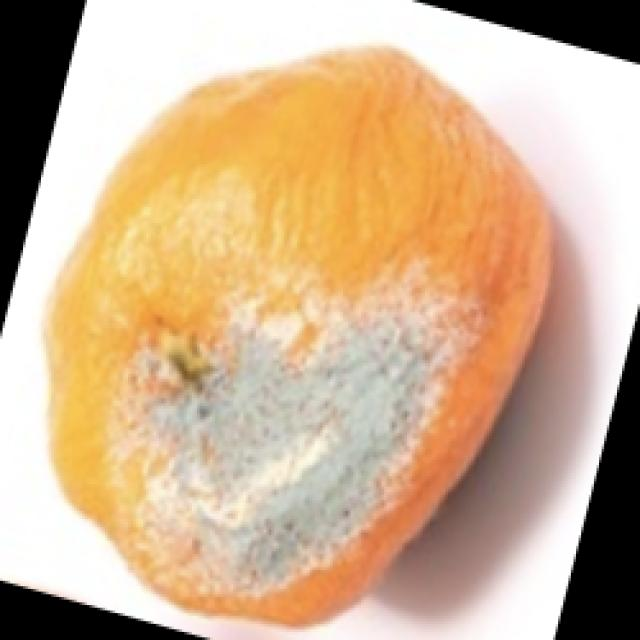sedikit_busuk: (36, 46, 550, 613)
